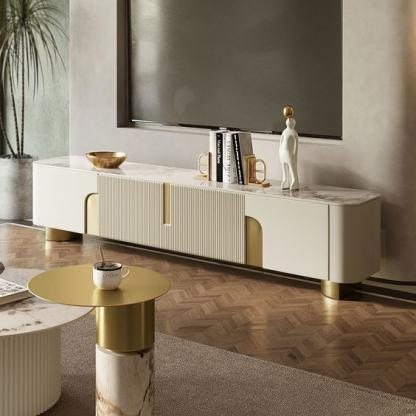Sideboard: (32, 156, 382, 299)
